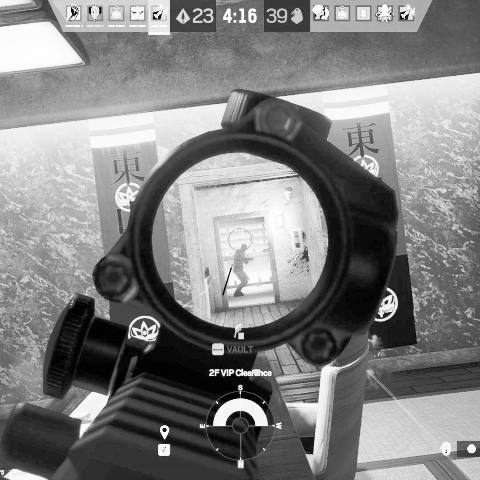Character: (232, 243, 255, 298)
Friend_label: (232, 228, 252, 243)
Head: (240, 244, 248, 252)
